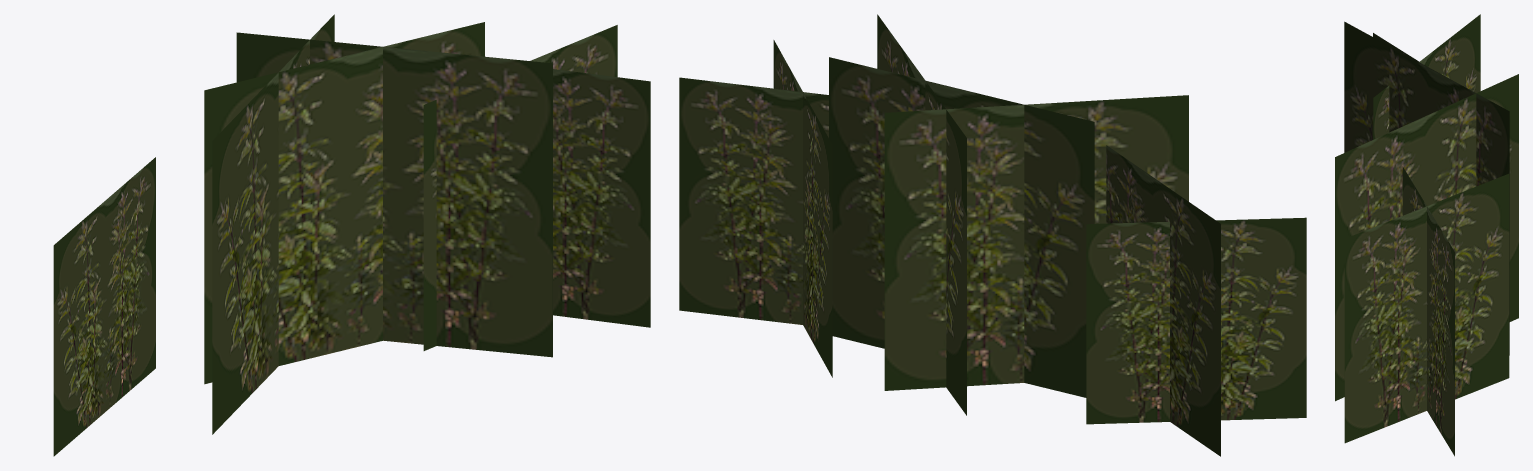
The model's file is plants_k008.FBX.
The picture shows the model from 3 angles, left to right: view 1: azimuth 30°, elevation 25°; view 2: azimuth 150°, elevation 25°; view 3: azimuth 270°, elevation 25°; orthographic projection. The views are drawn at different scales.
Visible parts, largest first — view 1: plants_k008; view 2: plants_k008; view 3: plants_k008.
Boxes of the visible parts, x1,y1,x2,y2 form: plants_k008: (53,14,650,456); plants_k008: (679,14,1306,456); plants_k008: (1335,14,1518,456).
Size of the model in its own units: 6.55 by 3 by 2.05.
1 material, 1 textured.
